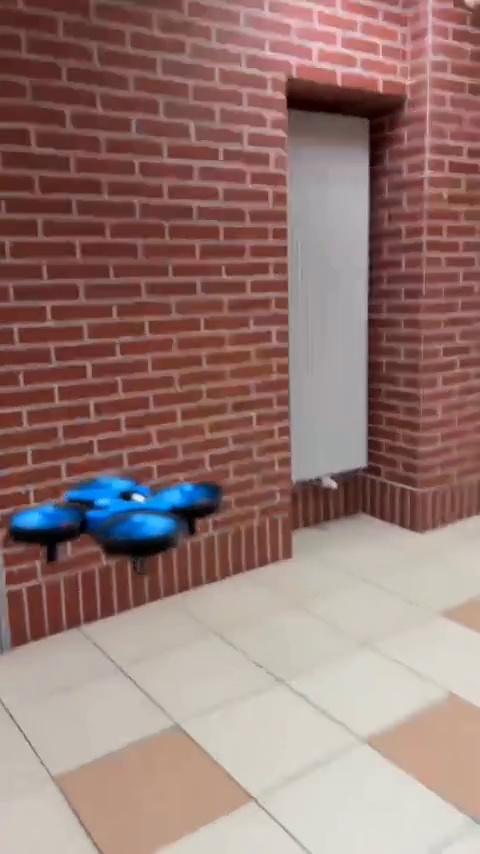drone: (12, 476, 224, 571)
